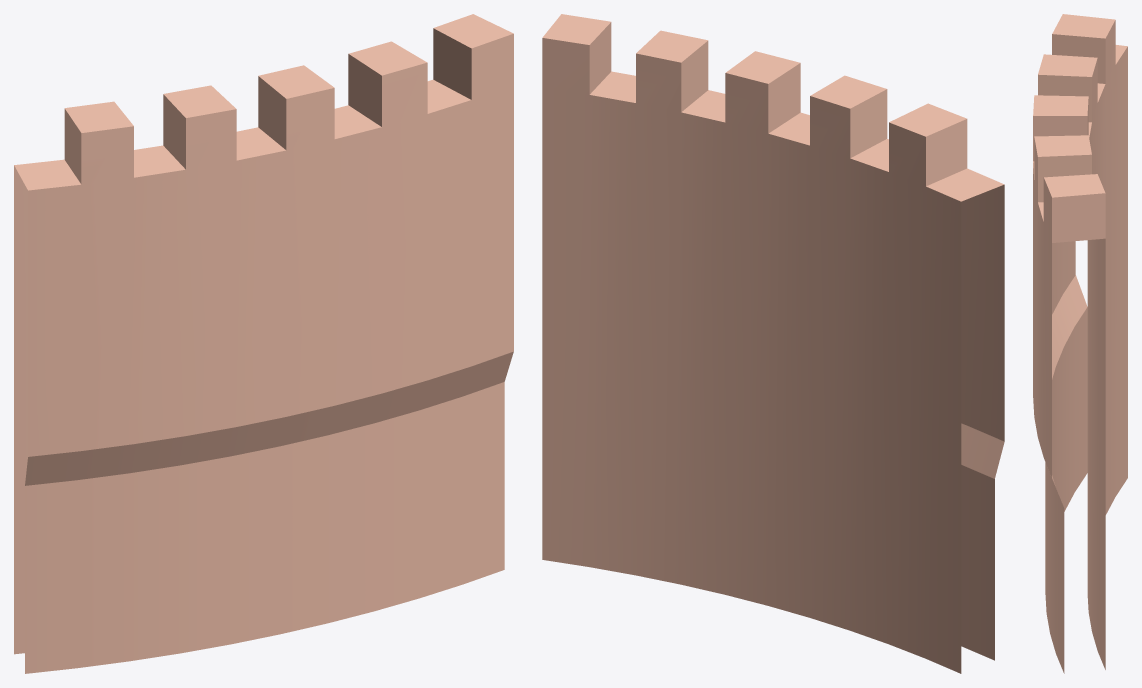
The model's file is Castillo_TrozoParedInterior.fbx.
3 views of the same model, side by side, from view 1: azimuth 30°, elevation 25°; view 2: azimuth 150°, elevation 25°; view 3: azimuth 270°, elevation 25° (orthographic). The views are drawn at different scales.
Parts seen in each view (by area): view 1: Castillo_TrozoParedInterior; view 2: Castillo_TrozoParedInterior; view 3: Castillo_TrozoParedInterior.
Boxes of the visible parts, x1,y1,x2,y2 form: Castillo_TrozoParedInterior: (14,14,513,673); Castillo_TrozoParedInterior: (542,14,1004,673); Castillo_TrozoParedInterior: (1033,14,1127,673).
Size of the model in its own units: 12875 by 14080 by 2535.
